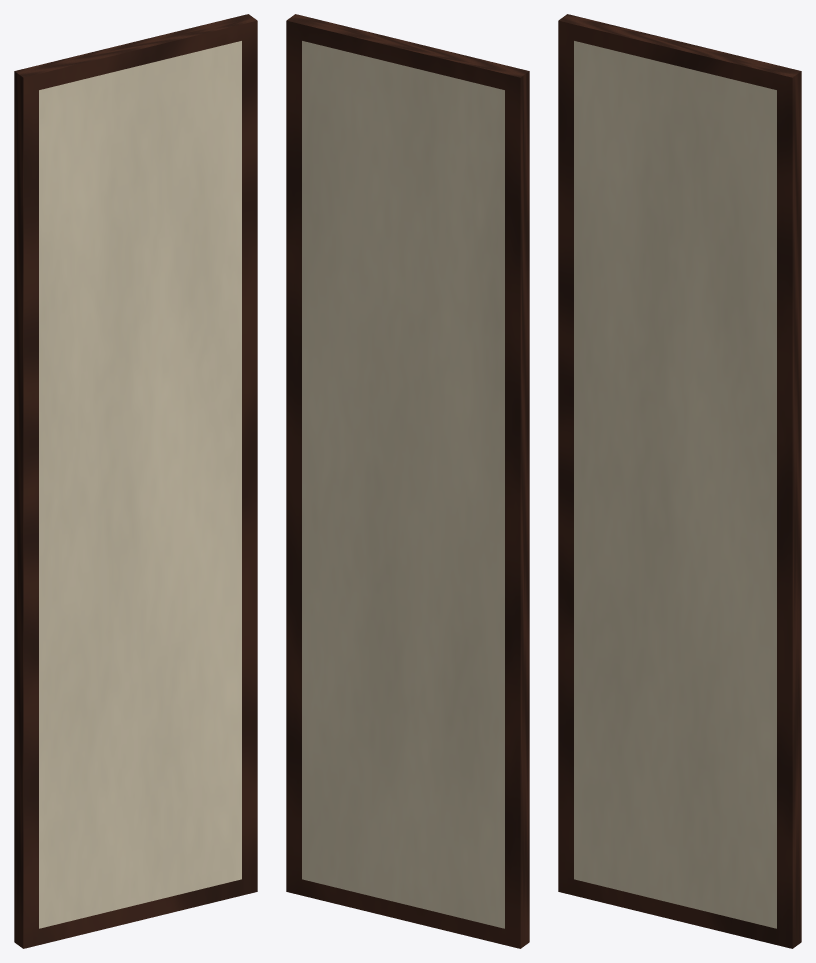
The model's file is z3_biombo_panel.obj.
The picture shows the model from 3 angles, left to right: view 1: azimuth 30°, elevation 25°; view 2: azimuth 150°, elevation 25°; view 3: azimuth 330°, elevation 25°; orthographic projection.
Parts seen in each view (by area): view 1: Cube; view 2: Cube; view 3: Cube.
Boxes of the visible parts, x1=… form: Cube: x1=14, y1=14, x2=257, y2=948; Cube: x1=286, y1=14, x2=529, y2=948; Cube: x1=558, y1=14, x2=801, y2=948.
Size of the model in its own units: 0.45 by 1.6 by 0.03.
Materials: 2 (2 with a texture image).
